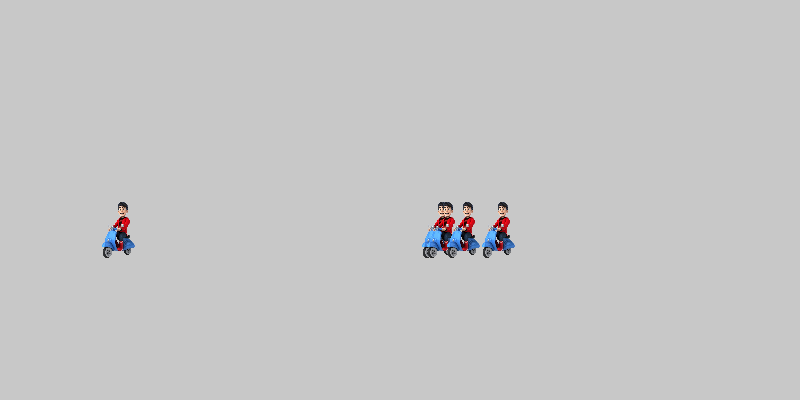no_helmet: (90, 200, 150, 260), (410, 200, 470, 260), (415, 200, 475, 260), (435, 200, 495, 260), (470, 200, 530, 260)
